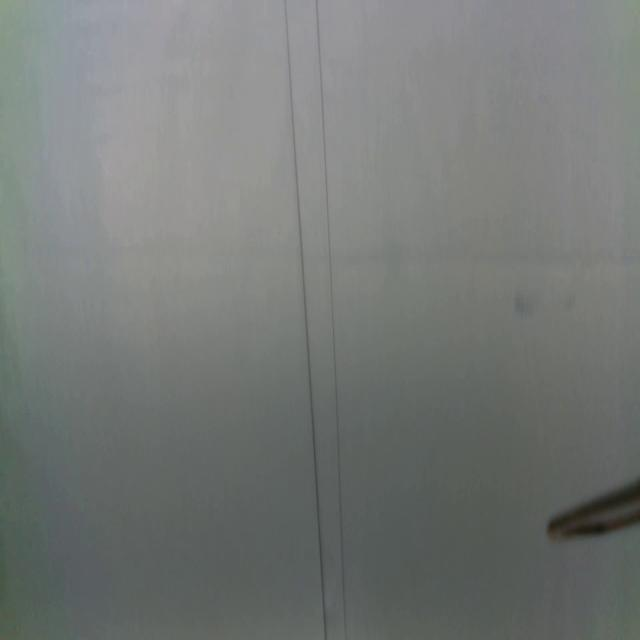color bleeding: (0, 228, 640, 274)
crease: (282, 0, 326, 639), (314, 0, 348, 640)
